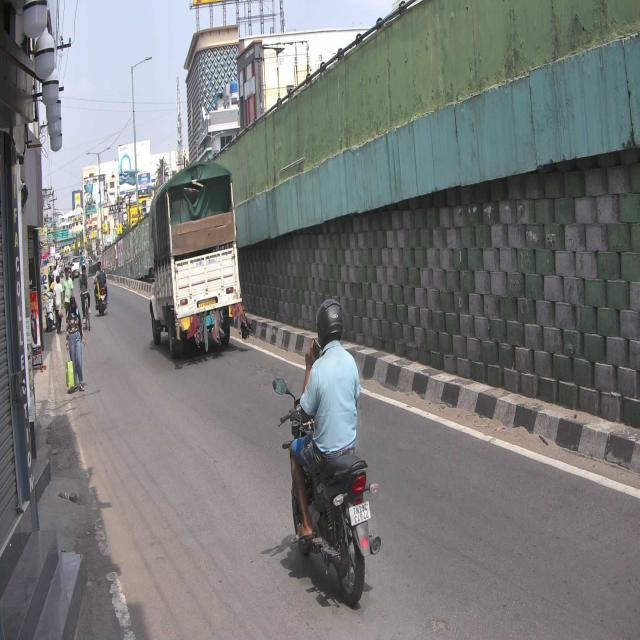single_rider: (269, 294, 384, 608)
